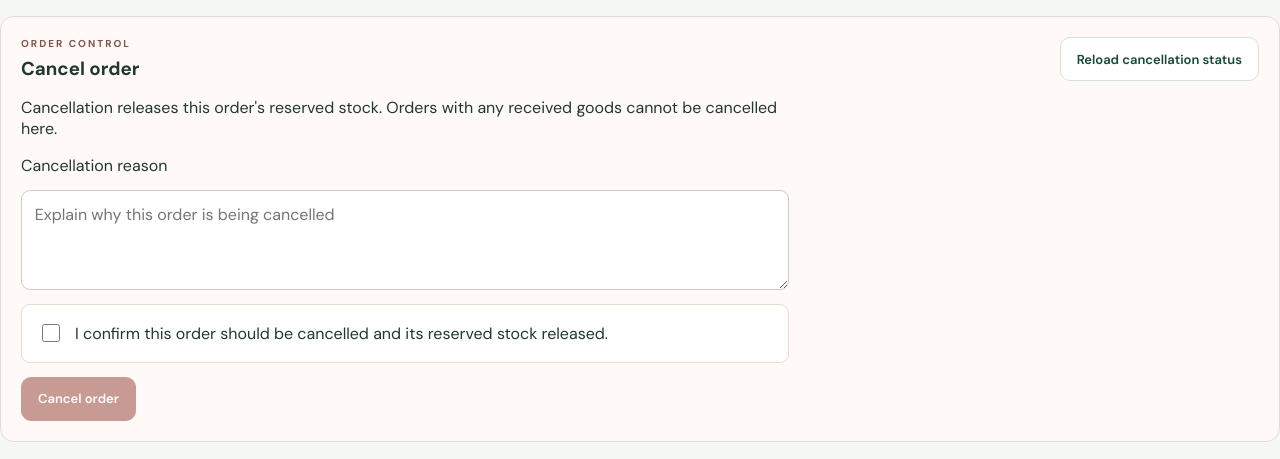
Test: Order cancellation › requires a reason and explicit confirmation
expect the button "Cancel order" is disabled: met, box [21, 377, 136, 421]
Type "Buyer withdrew the order." into the text box labelled "Cancellation reason". click: (405, 240)
box: [21, 190, 789, 290]
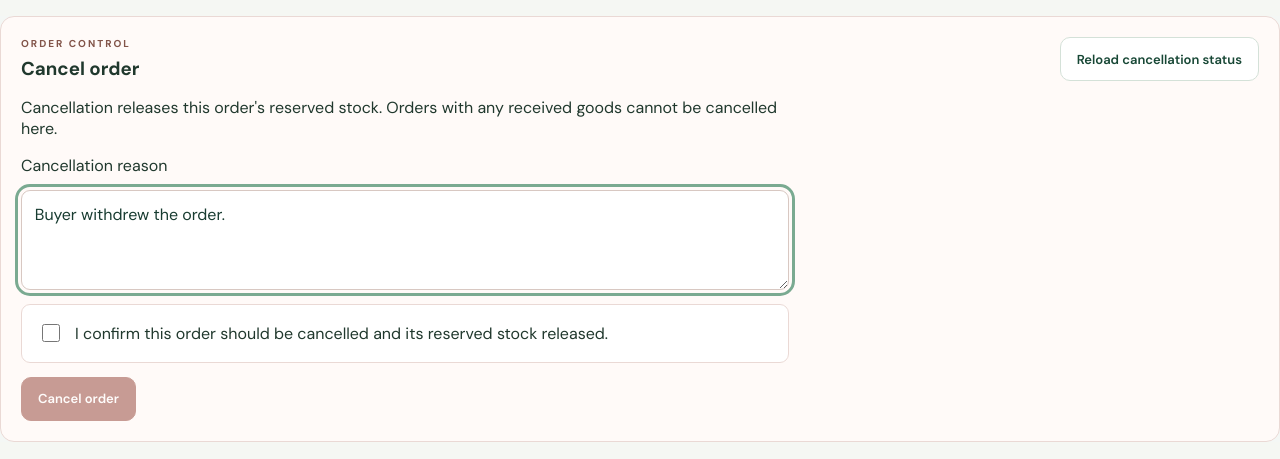
expect the button "Cancel order" is disabled: met, box [21, 377, 136, 421]
Click the checkbox. click: (51, 333)
box: [42, 324, 60, 342]
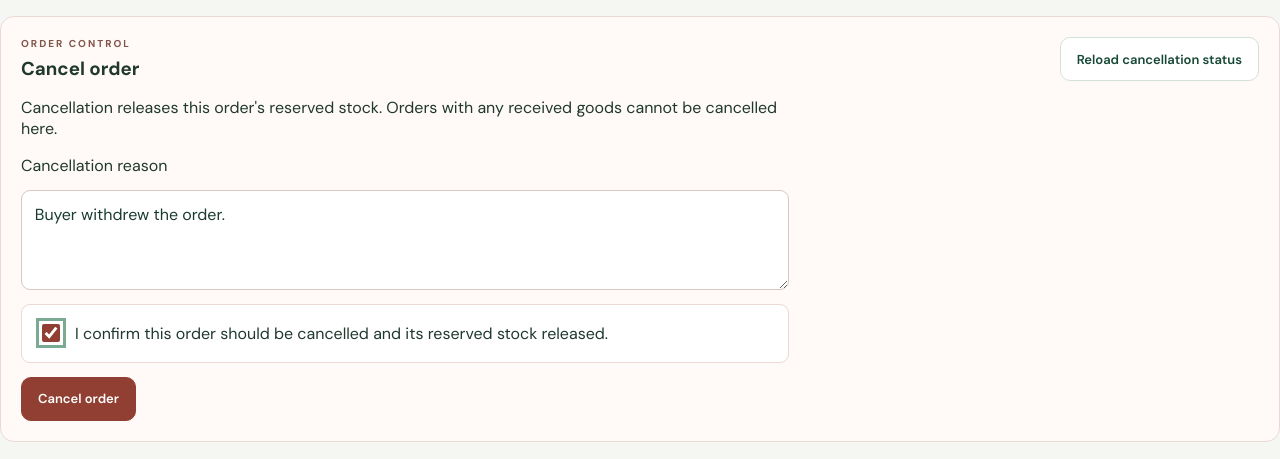
expect the button "Cancel order" is enabled: met, box [21, 377, 136, 421]
